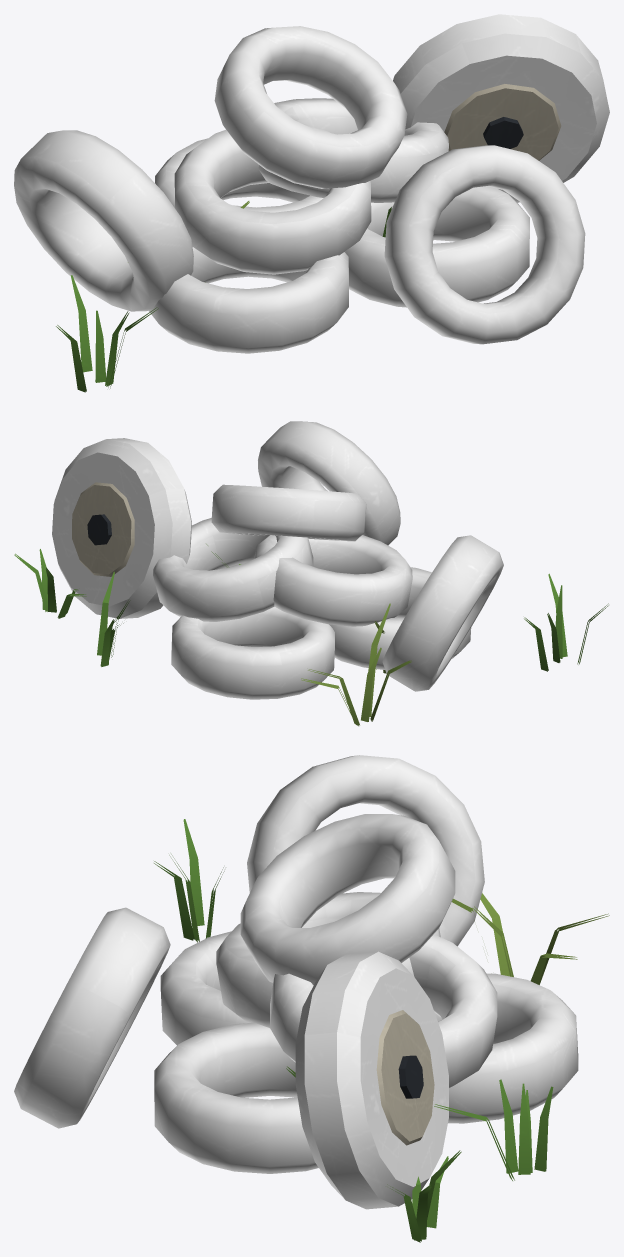
Rendered from roadside_tire_pile.glb.
3 views of the same model, one above another, from view 1: azimuth 30°, elevation 25°; view 2: azimuth 150°, elevation 25°; view 3: azimuth 270°, elevation 25° (orthographic). The views are drawn at different scales.
Parts seen in each view (by area): view 1: roadside_tire_pile; view 2: roadside_tire_pile; view 3: roadside_tire_pile.
Part boxes in pixels (bbox=[...]): roadside_tire_pile: bbox=[14, 14, 609, 392]; roadside_tire_pile: bbox=[14, 421, 608, 726]; roadside_tire_pile: bbox=[14, 755, 609, 1242].
Size of the model in its own units: 2.35 by 0.786 by 1.68.
5 materials, 5 textured.
